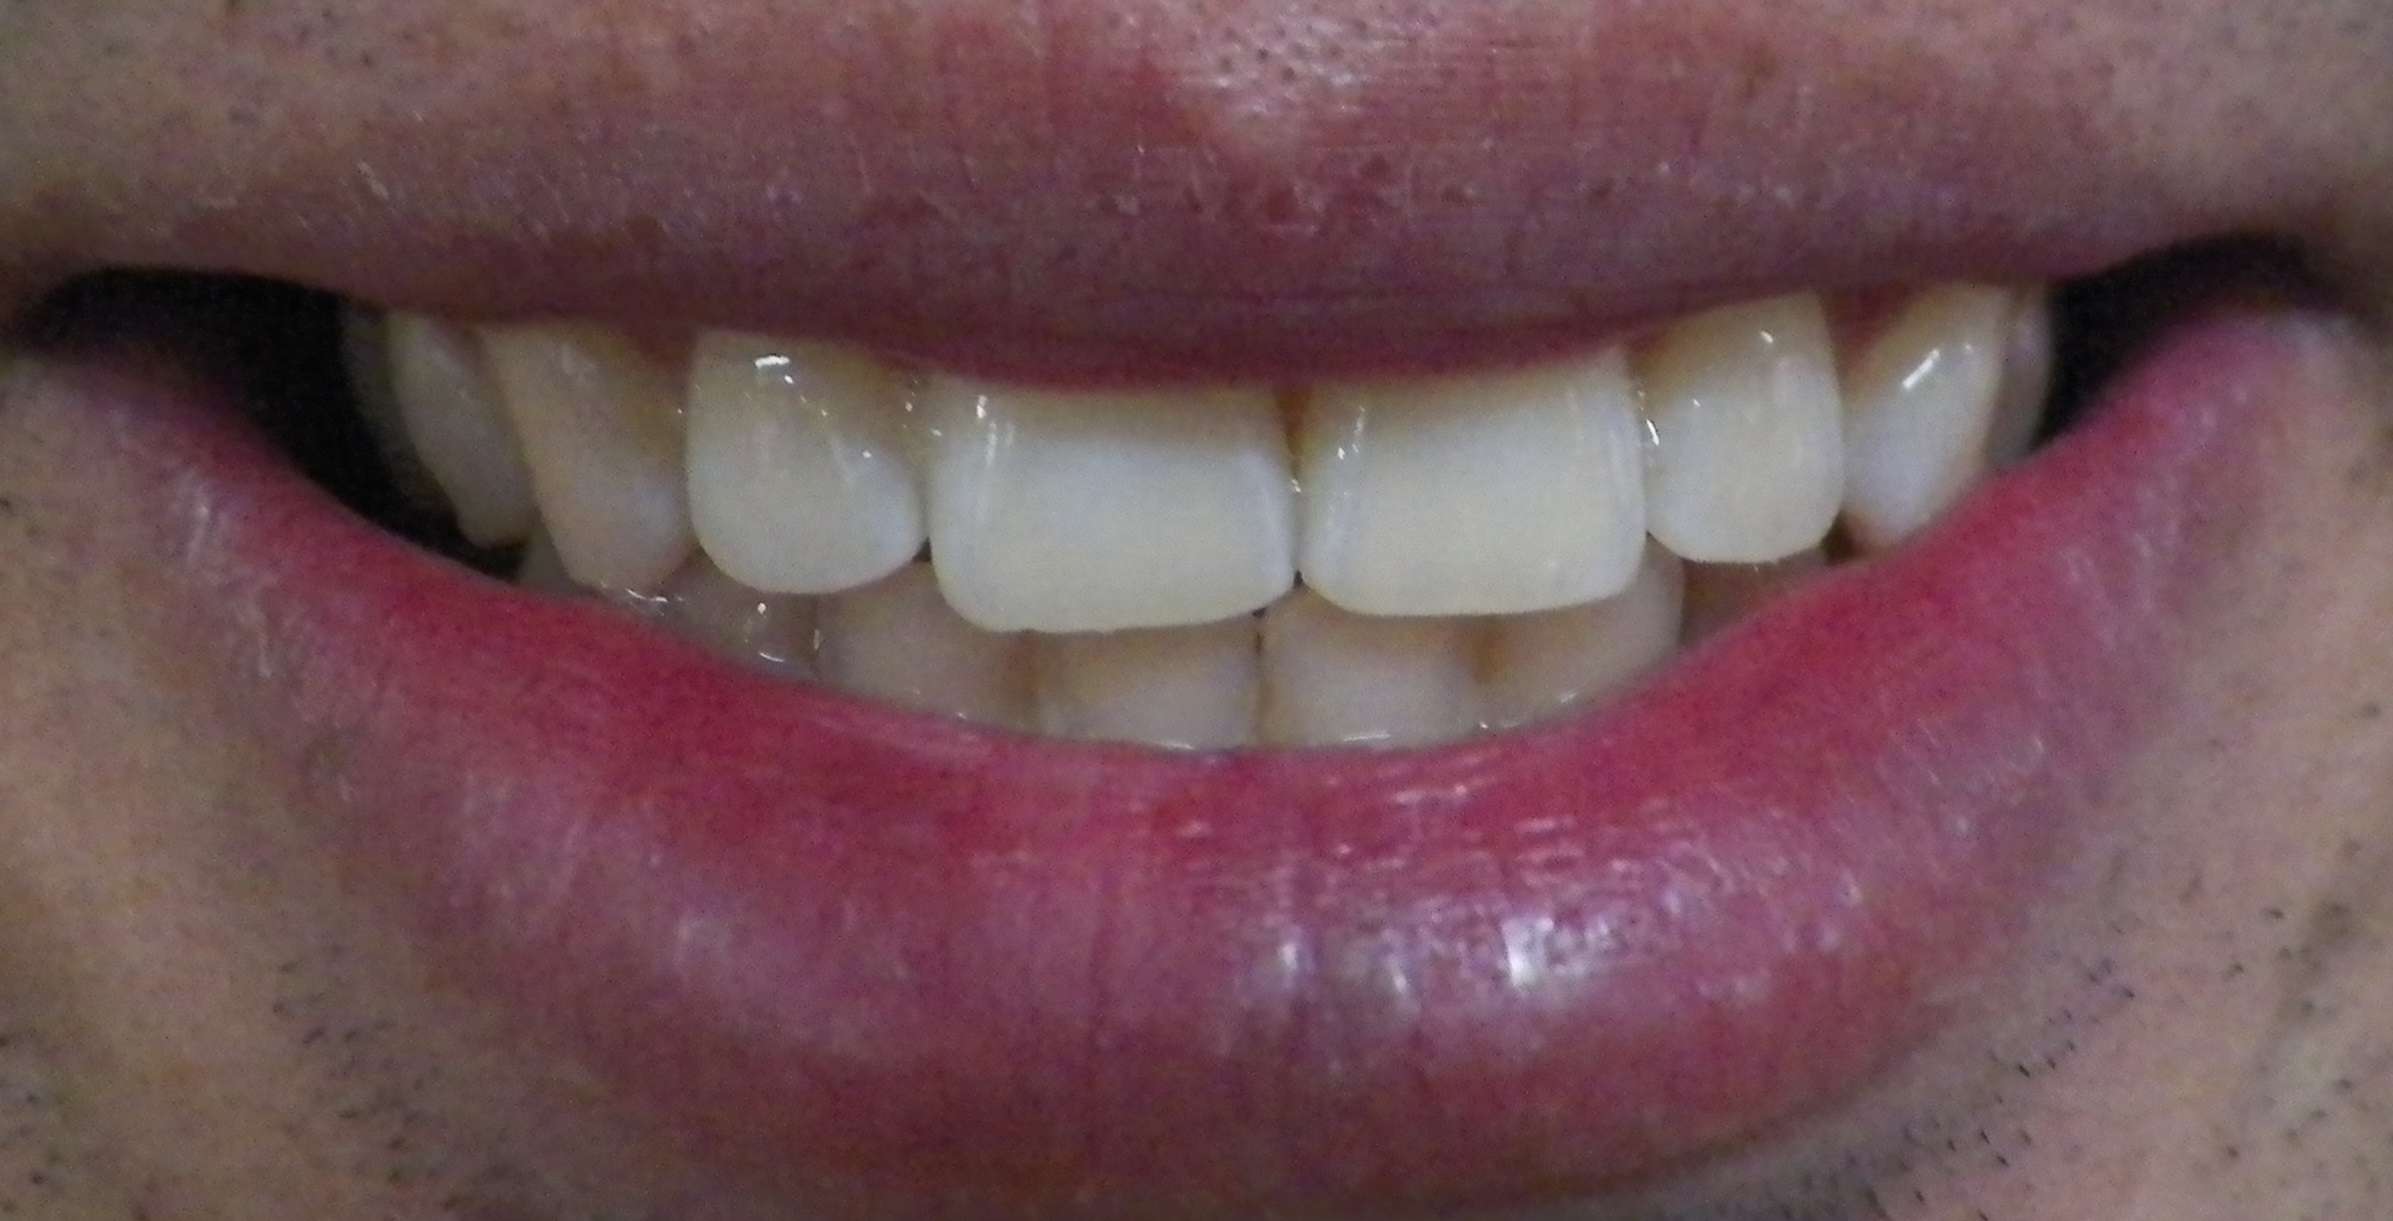boca: (327, 290, 2086, 751)
